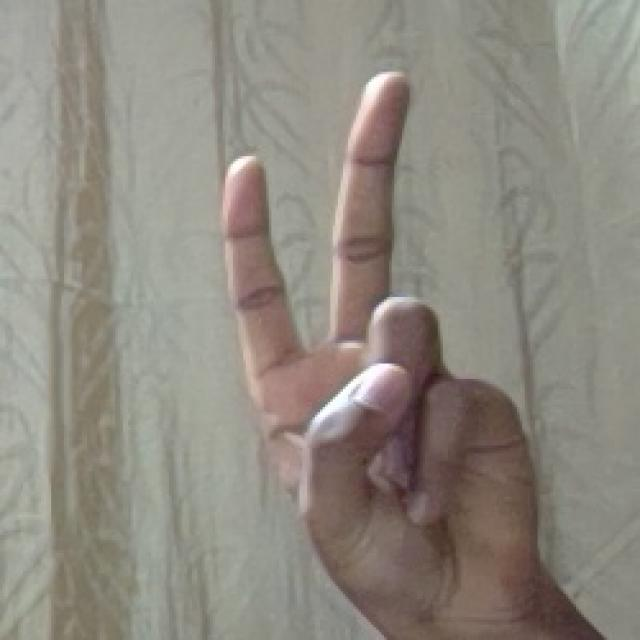Numeric-2: (215, 64, 548, 604)
